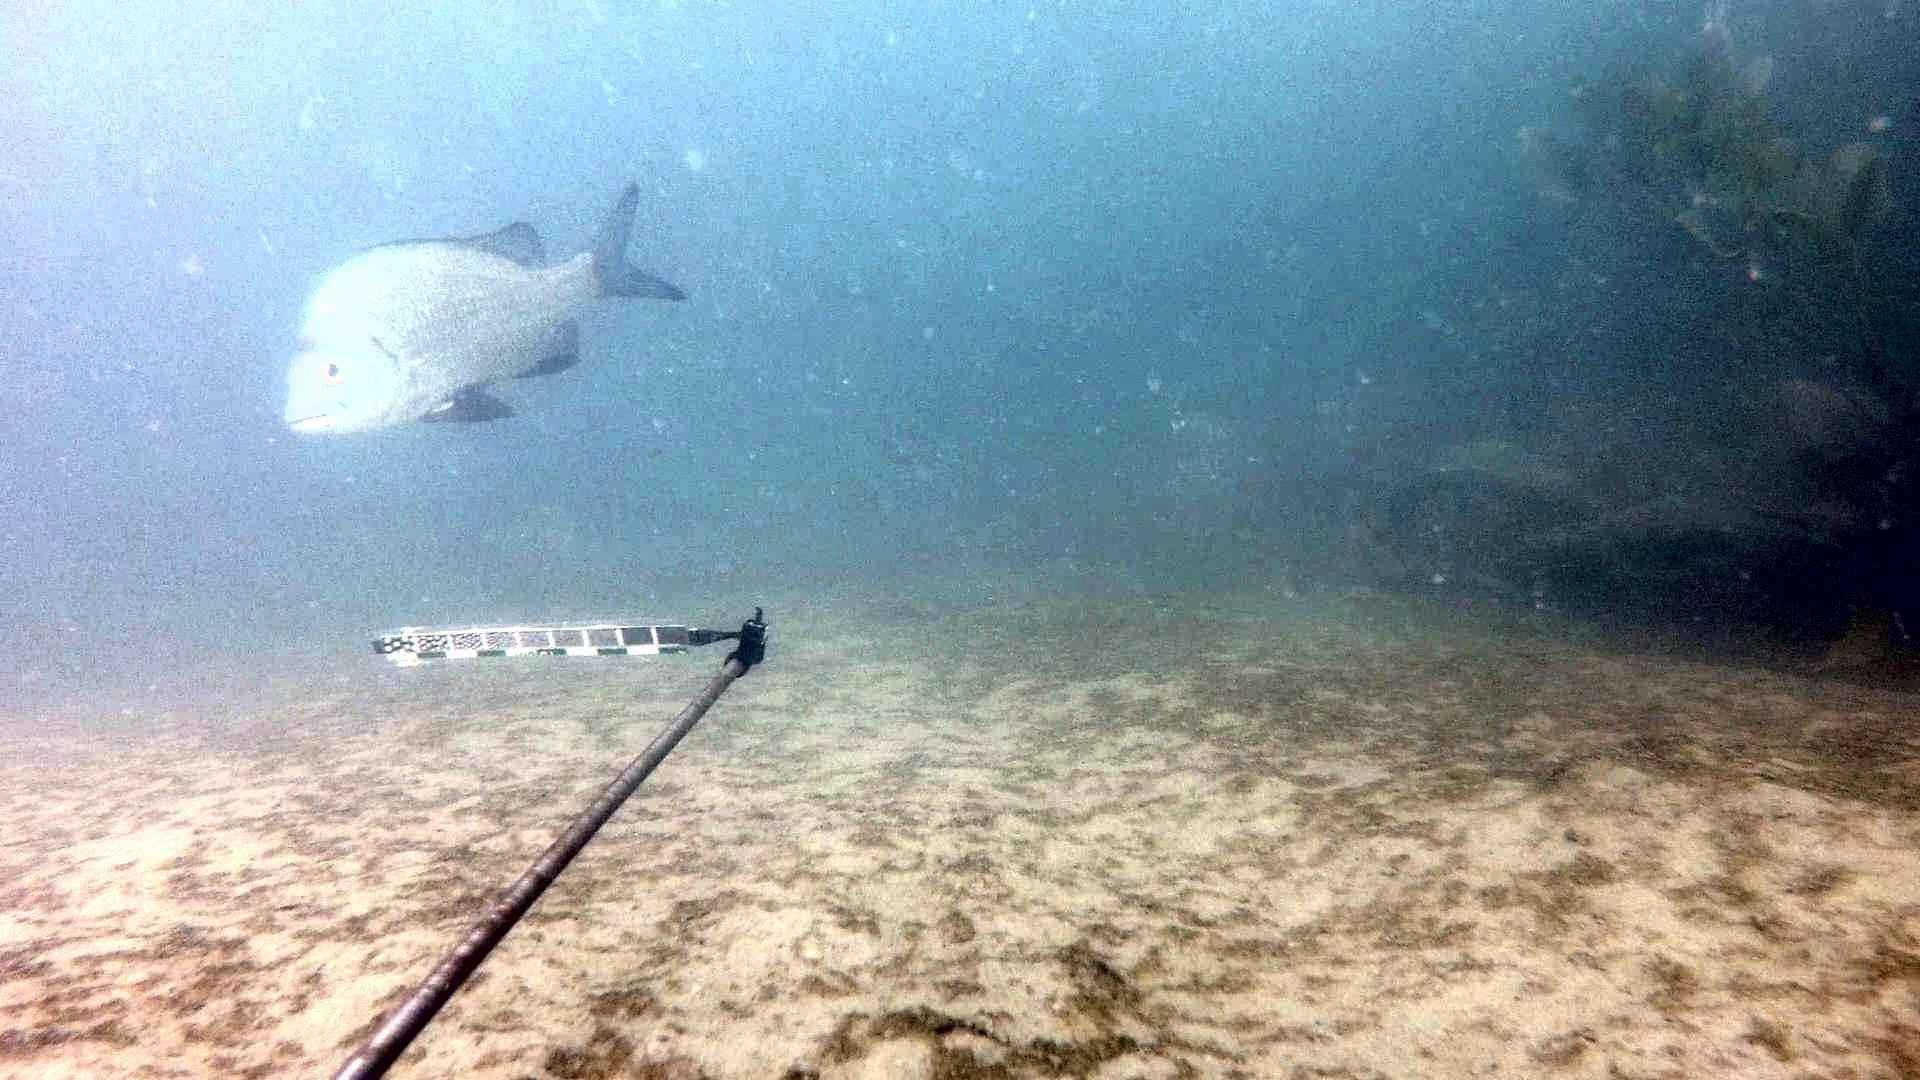acanthopagrus palmaris: (270, 173, 701, 452)
